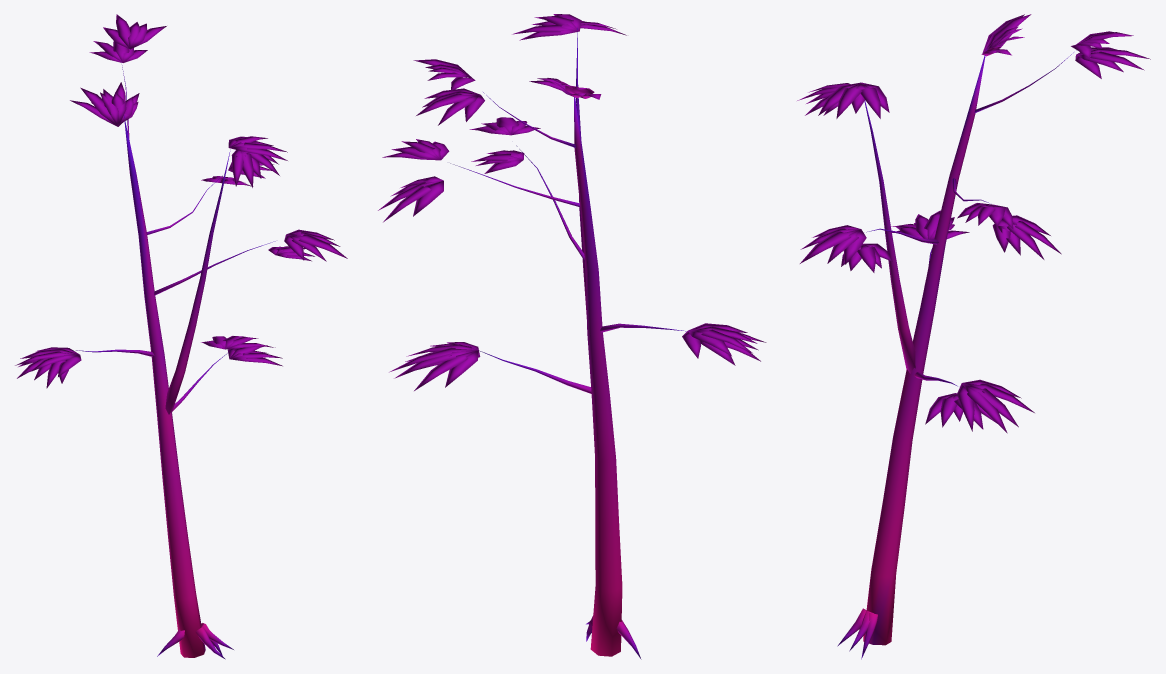
Rendered from mw_trunk_c.glb.
The picture shows the model from 3 angles, left to right: view 1: azimuth 30°, elevation 25°; view 2: azimuth 150°, elevation 25°; view 3: azimuth 270°, elevation 25°; orthographic projection. The views are drawn at different scales.
Parts seen in each view (by area): view 1: Trunk, Canopy; view 2: Trunk, Canopy; view 3: Trunk, Canopy.
Part boxes in pixels (x1,y1,x2,y2): Trunk: (72, 65, 275, 659); Canopy: (15, 14, 347, 388); Trunk: (450, 28, 686, 659); Canopy: (378, 14, 766, 390); Trunk: (837, 49, 1076, 659); Canopy: (797, 14, 1150, 433).
Size of what is drawn, in the model's own units: 12.53 by 23.49 by 11.98.
